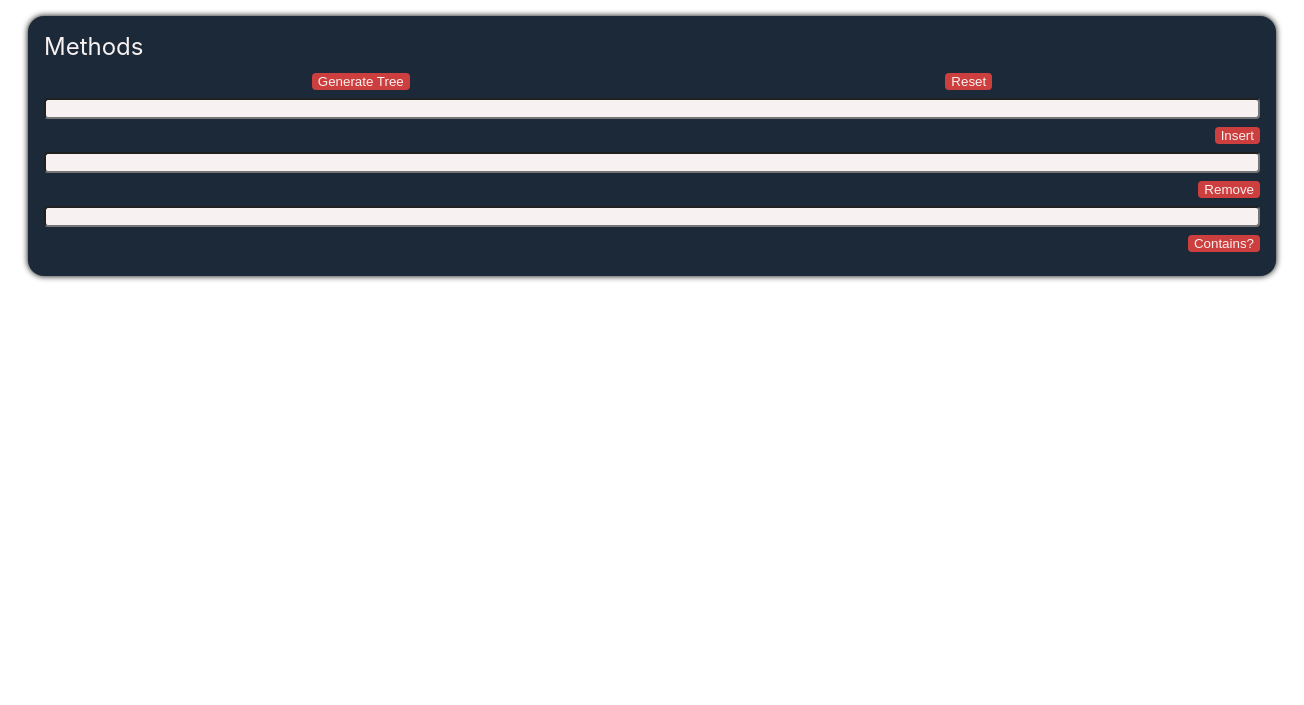
Test: TreeComponent › generates a tree
This screenshot has width=1304, height=705.
Click the button with test id "generate-submit" at (361, 82), box [312,73,410,90]
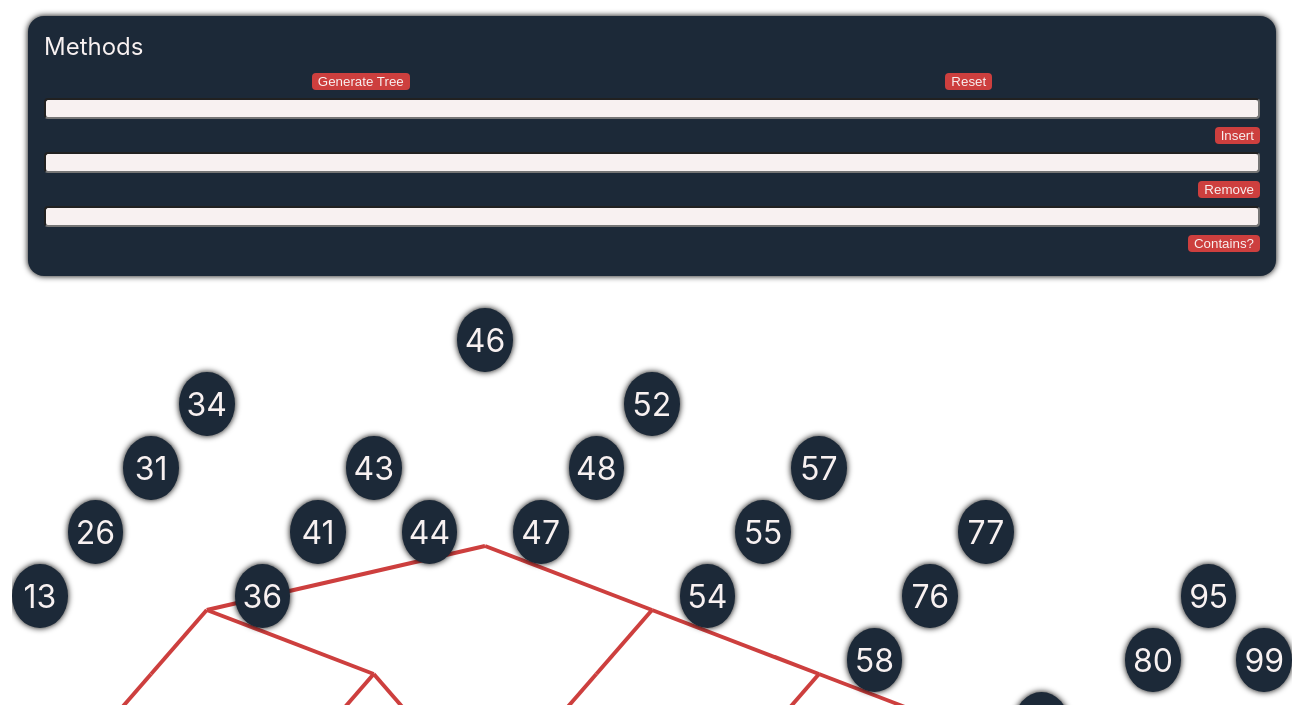
Expected: the element with test id "bst-node bst-root" is shown, [457,308,513,372]
